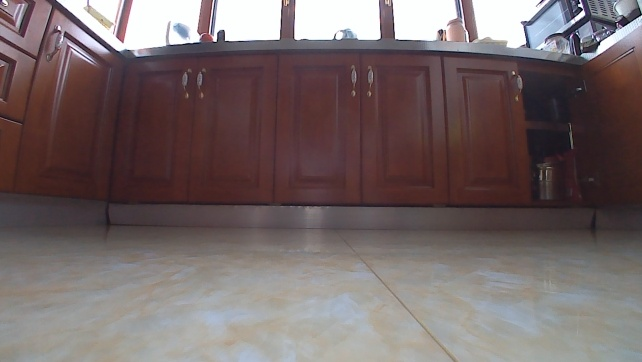cupboard: (0, 0, 641, 234)
